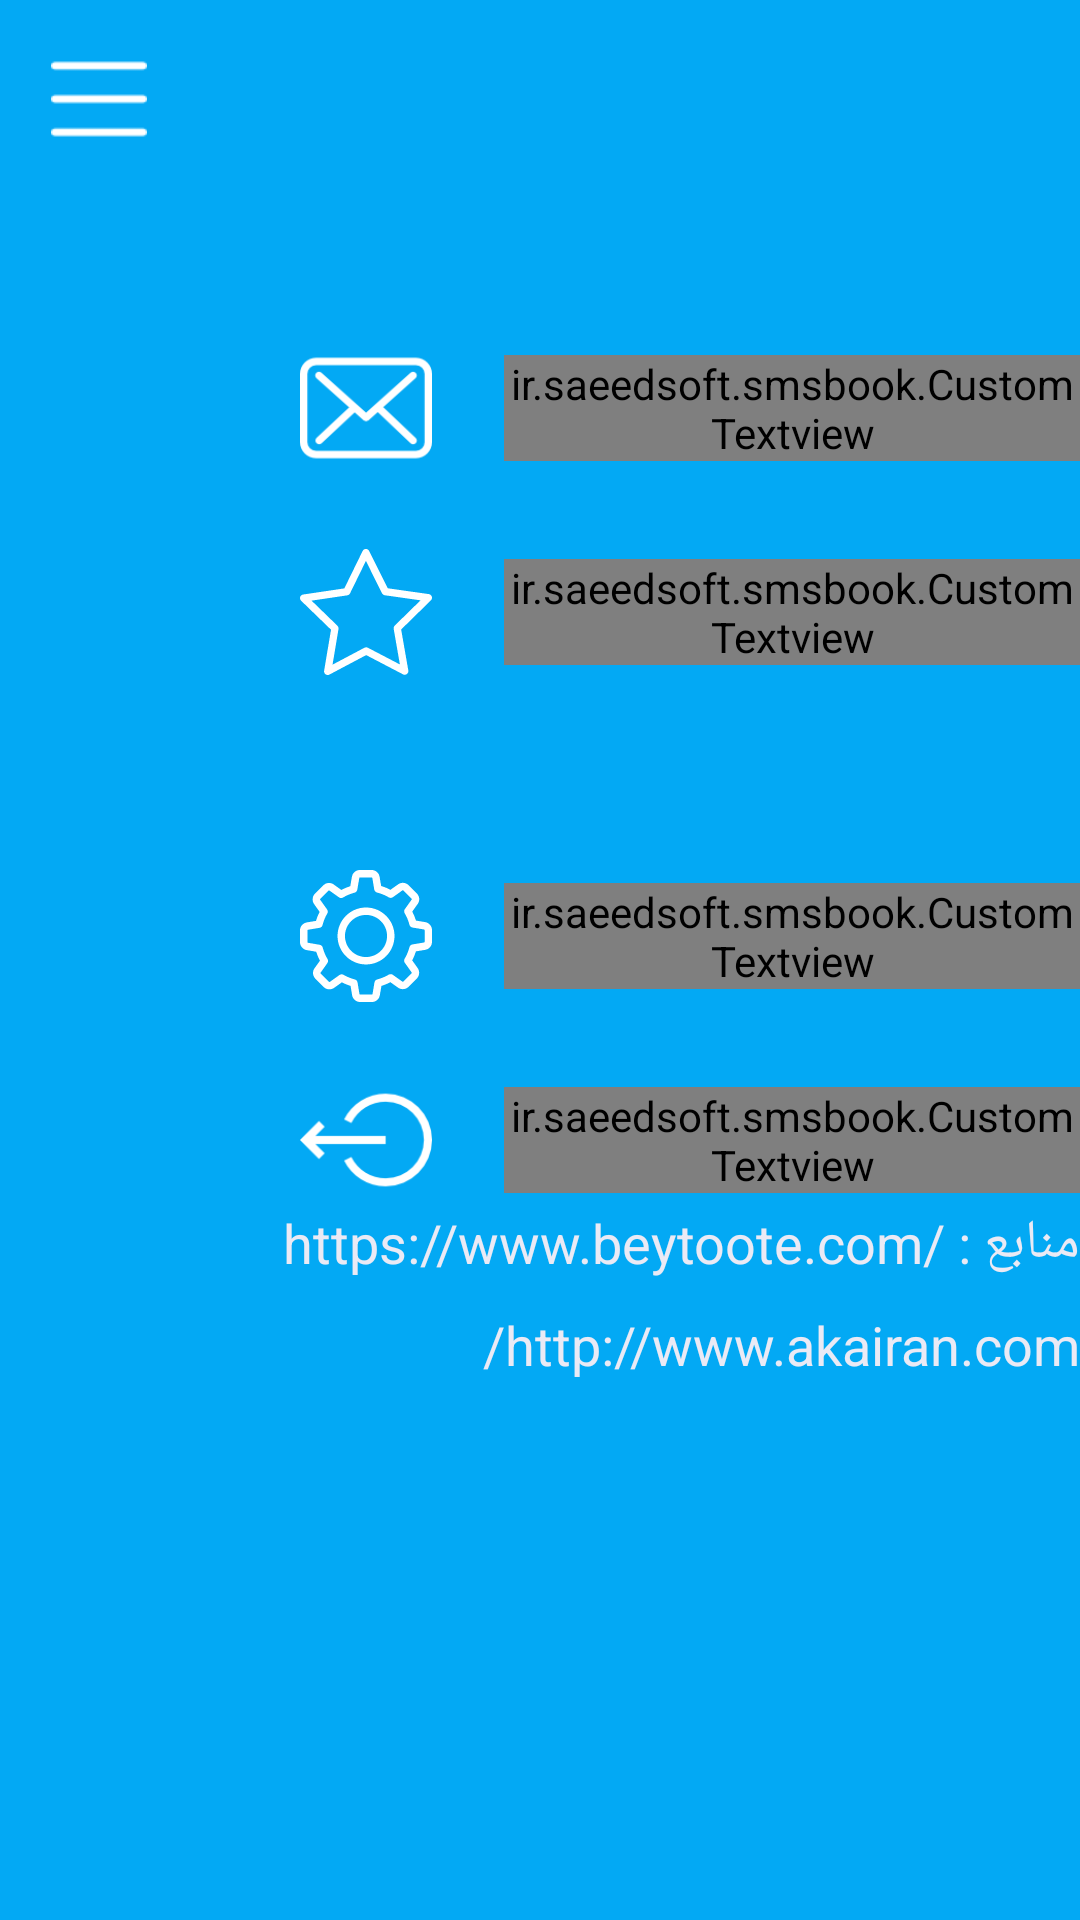

Named icons in this screenshot (1080px x 1920px) and their centers, (x,y):
exit: (366,1140)
menu: (99,99)
message: (366,408)
settings: (366,936)
star: (366,612)
